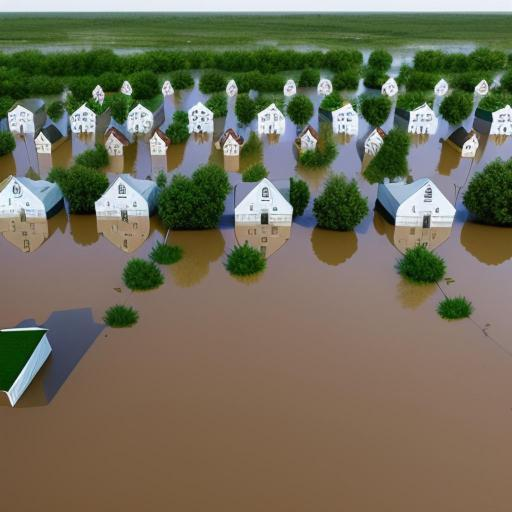flood: (0, 95, 512, 512), (154, 72, 208, 129), (299, 88, 332, 129), (344, 80, 380, 100), (383, 112, 408, 132), (390, 54, 408, 76), (42, 91, 65, 103), (474, 92, 481, 108)
house: (374, 178, 456, 230), (3, 327, 53, 411), (0, 174, 64, 223), (232, 178, 294, 226), (97, 171, 156, 221), (6, 100, 38, 142), (125, 100, 155, 138), (184, 99, 212, 139), (256, 104, 285, 140), (360, 123, 386, 163), (411, 102, 437, 140), (104, 123, 128, 161), (329, 103, 357, 135), (297, 119, 319, 158), (450, 128, 478, 157), (36, 124, 64, 152), (71, 105, 97, 135), (217, 128, 243, 157), (148, 127, 170, 156), (476, 108, 494, 140), (382, 77, 398, 100), (284, 80, 298, 104), (318, 76, 336, 94)
